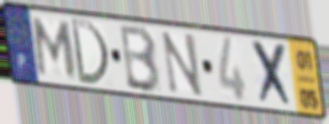4: (217, 33, 251, 105)
B: (119, 23, 163, 96)
D: (68, 16, 112, 88)
M: (31, 15, 79, 80)
N: (159, 29, 206, 100)
X: (249, 37, 296, 112)
